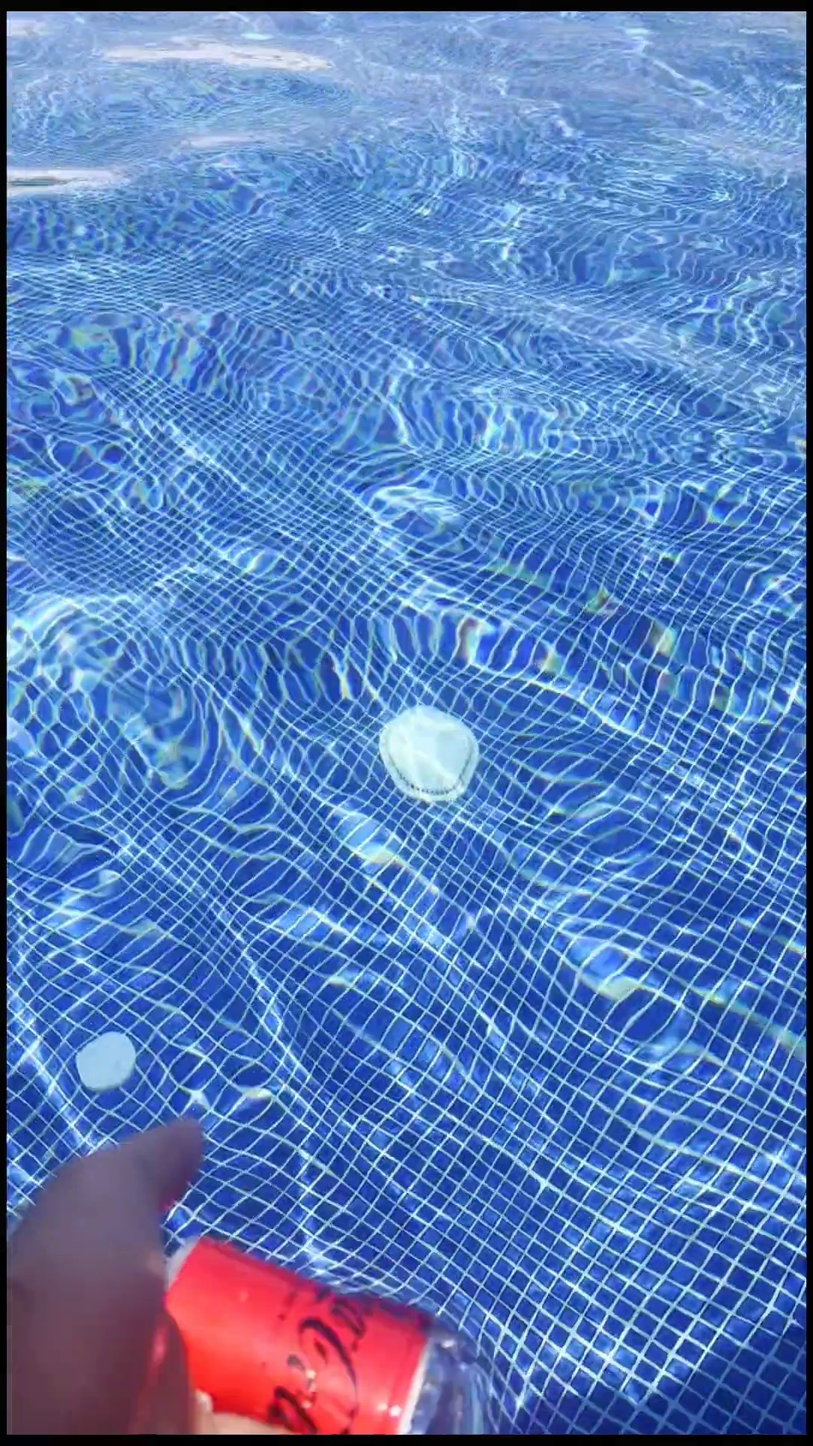debris: (140, 1173, 463, 1431)
